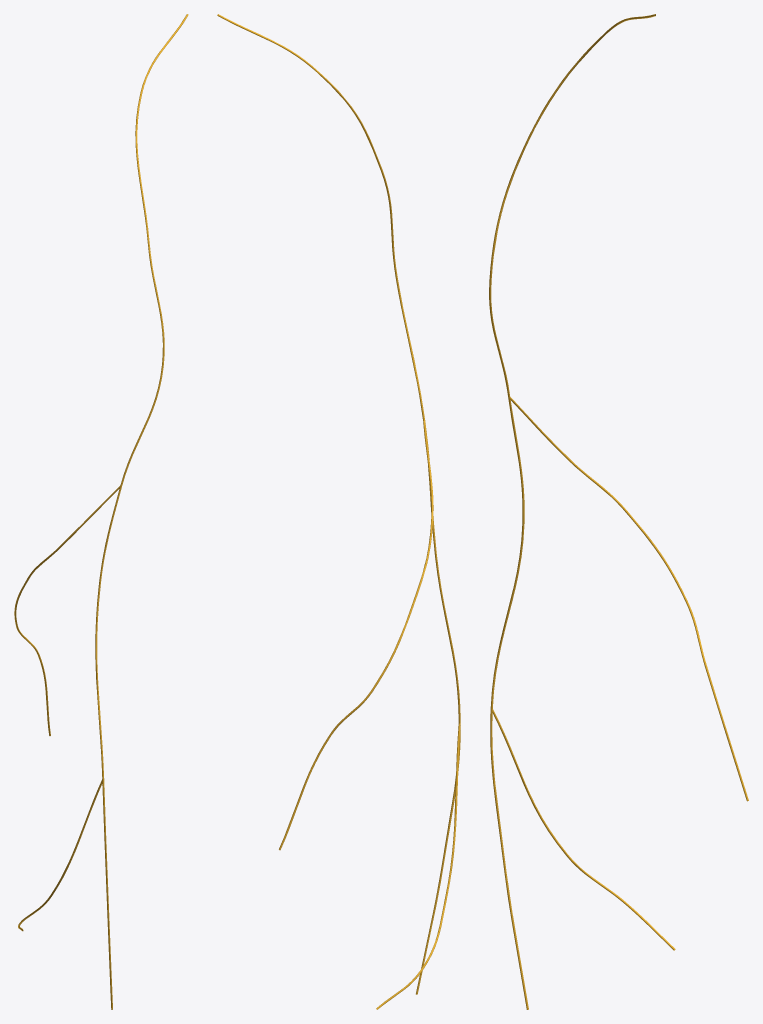
Rendered from nervoso-lateral-femoral-cutaneous-nerve-r.glb.
The picture shows the model from 3 angles, left to right: view 1: azimuth 30°, elevation 25°; view 2: azimuth 150°, elevation 25°; view 3: azimuth 270°, elevation 25°; orthographic projection. The views are drawn at different scales.
Parts seen in each view (by area): view 1: Lateral femoral cutaneous nerve.r; view 2: Lateral femoral cutaneous nerve.r; view 3: Lateral femoral cutaneous nerve.r.
Boxes of the visible parts, <box> form: Lateral femoral cutaneous nerve.r: <box>14,14,188,1009</box>; Lateral femoral cutaneous nerve.r: <box>217,14,460,1009</box>; Lateral femoral cutaneous nerve.r: <box>489,14,748,1009</box>.
Size of the model in its own units: 0.1083 by 0.525 by 0.1157.
